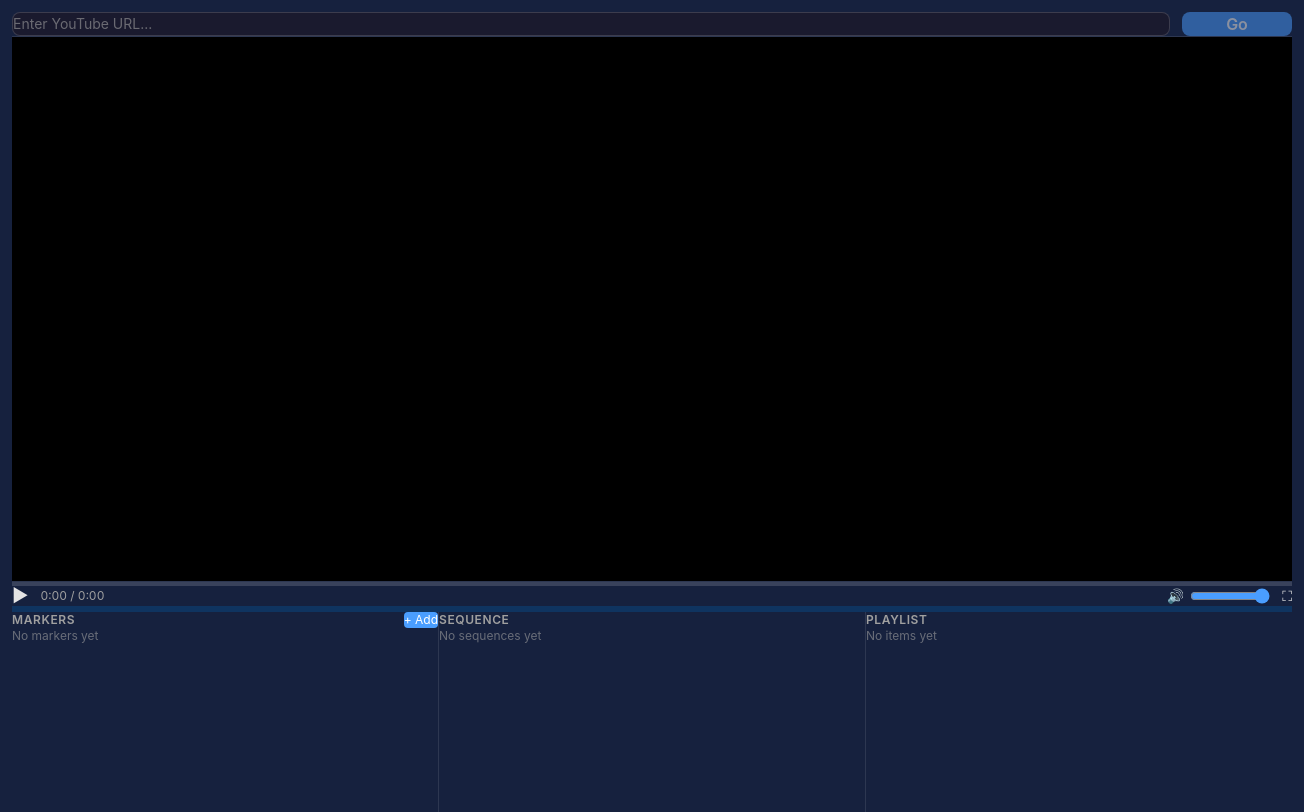
Test case: App - US-1.1: URLから動画を読み込む › Scenario: 有効なYouTube URLで動画を読み込む › youtu.be 短縮URLでも動画が読み込まれタイトルが表示される
In the field with test id "url-input": point(591, 24) [12,12,1170,36], type "https://youtu.be/dQw4w9WgXcQ"
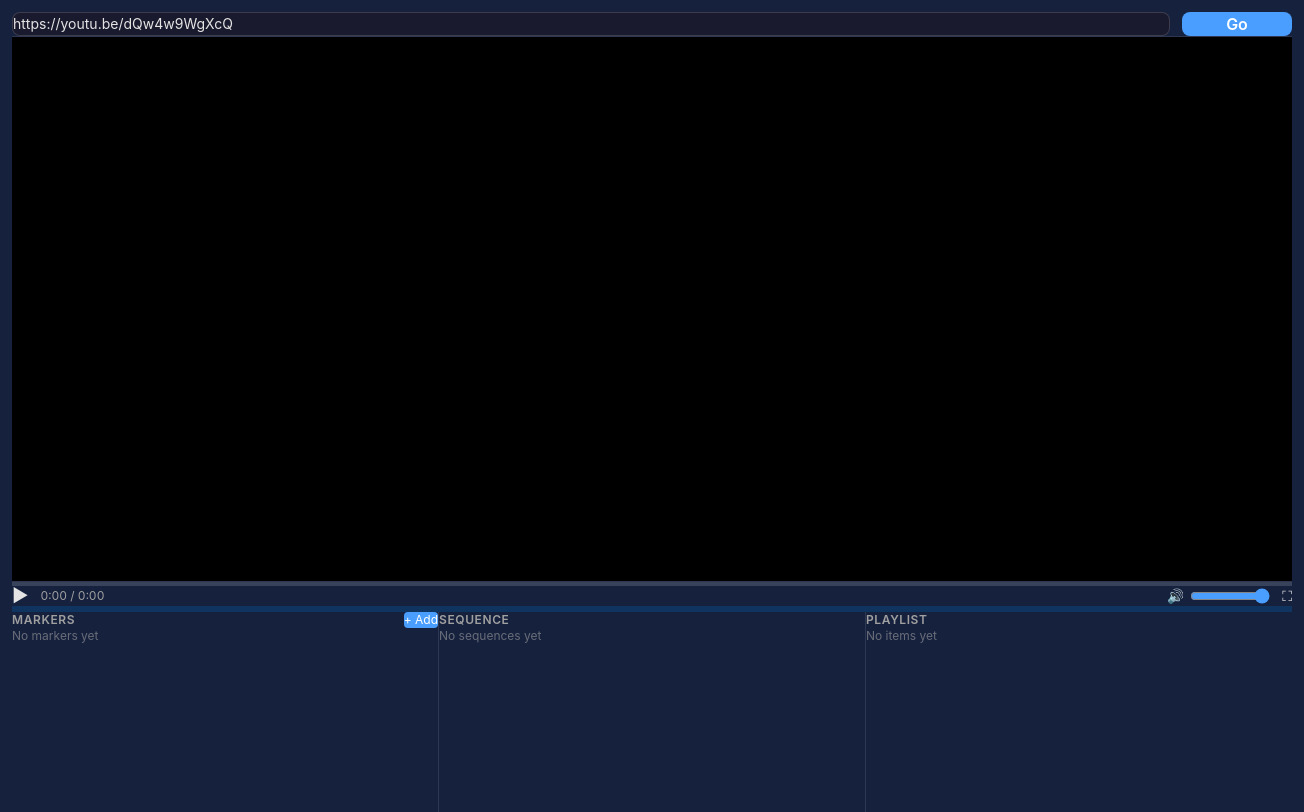
Click the button with test id "url-submit": point(1237, 24) [1182,12,1292,36]
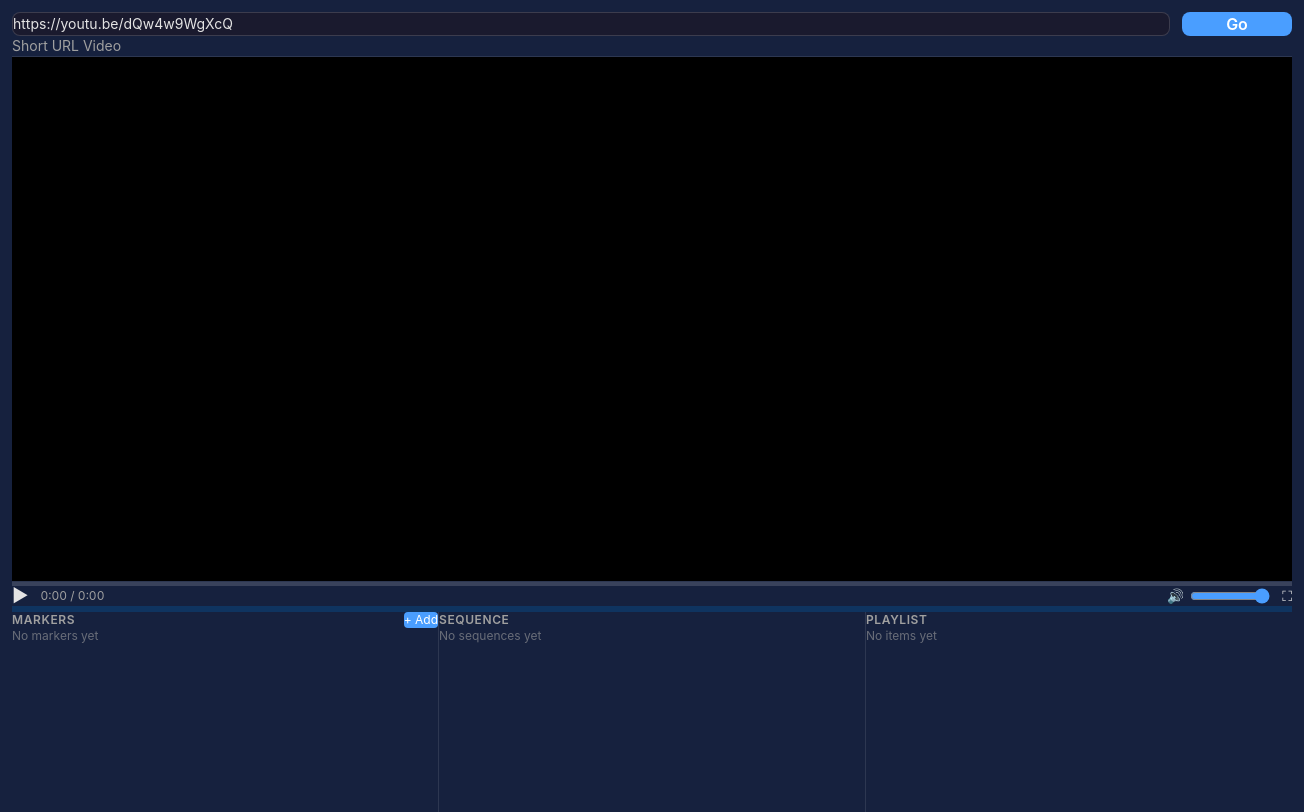
Expected: the text with test id "video-title" reads "Short URL Video", [12,37,121,54]
